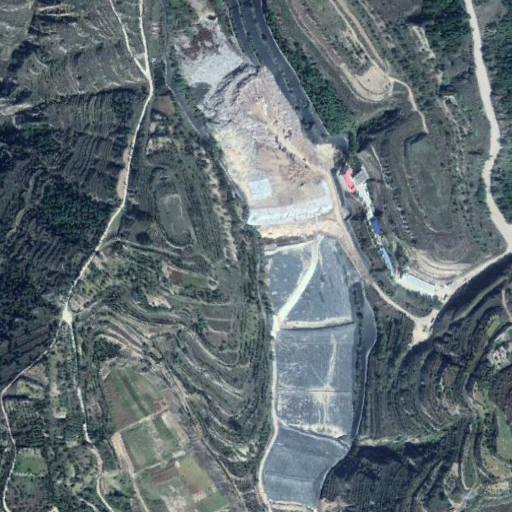lf: (260, 239, 353, 510)
